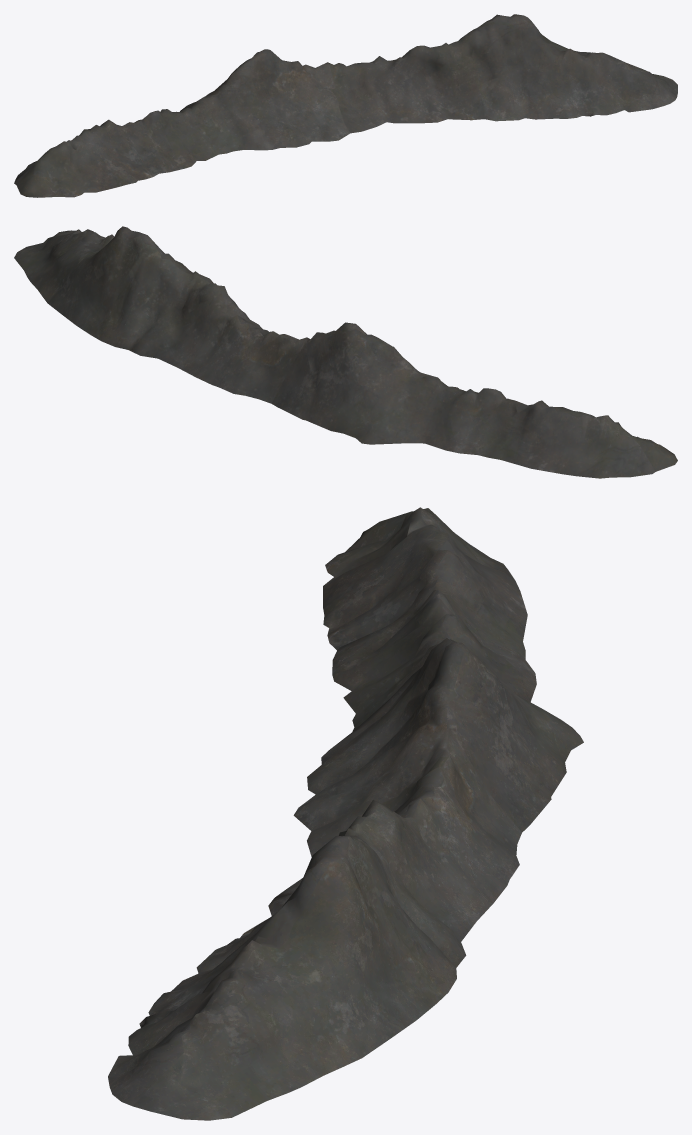
File: Cliff_W3_CraterRing_C_0.fbx
3 renders of one model, top to bottom at view 1: azimuth 30°, elevation 25°; view 2: azimuth 150°, elevation 25°; view 3: azimuth 270°, elevation 25°, orthographic. The views are drawn at different scales.
Visible parts, largest first — view 1: CraterRing_C.mo; view 2: CraterRing_C.mo; view 3: CraterRing_C.mo.
Boxes of the visible parts, x1,y1,x2,y2 form: CraterRing_C.mo: [14, 14, 677, 197]; CraterRing_C.mo: [14, 226, 677, 478]; CraterRing_C.mo: [108, 507, 583, 1120].
Size of the model in its own units: 12613 by 1462 by 4289.
Materials: 1 (1 with a texture image).
